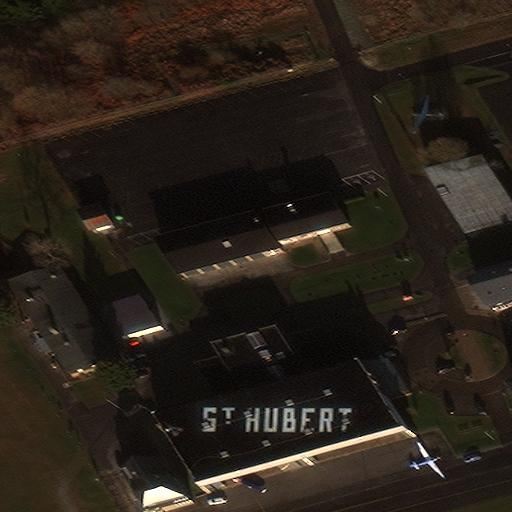Small Civil Transport: (409, 441, 446, 477), (410, 96, 442, 132)
